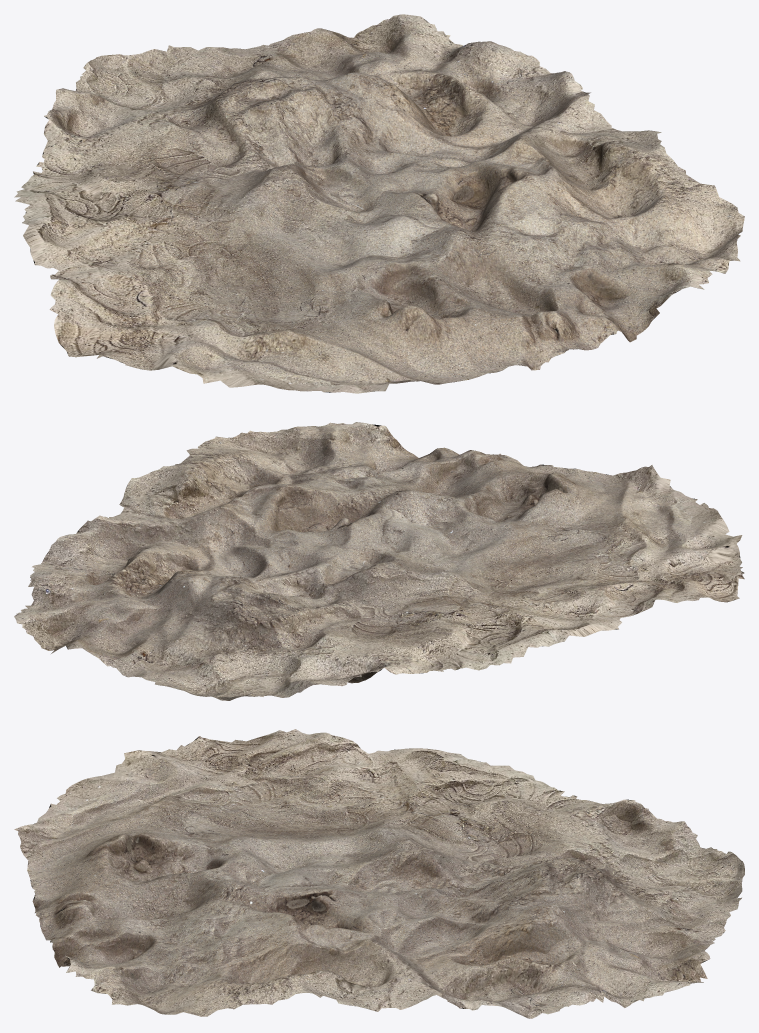
Rendered from beach_sand_scan_2.glb.
3 renders of one model, top to bottom at view 1: azimuth 30°, elevation 25°; view 2: azimuth 150°, elevation 25°; view 3: azimuth 270°, elevation 25°, orthographic. The views are drawn at different scales.
Visible parts, largest first — view 1: Object_2; view 2: Object_2; view 3: Object_2.
Part boxes in pixels (left/top/right/bottom): Object_2: left=14, top=14, right=744, bottom=393; Object_2: left=14, top=422, right=744, bottom=700; Object_2: left=14, top=729, right=744, bottom=1018.
Bounding box in the file's own units: 8.04 × 0.7908 × 8.73.
1 material, 1 textured.
